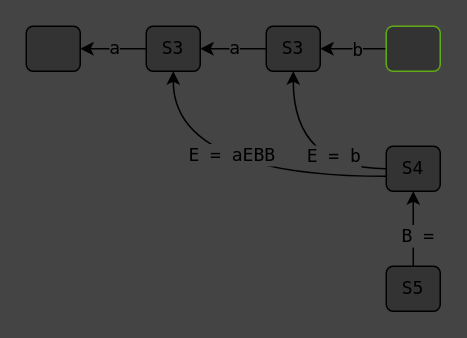
Some shapes in this 467 by 338 pixel diagram are drawn without their labels. The centre of each missing label's shape, as x and y in pixels:
"S0" goes at point 52,48.
"S2" goes at point 412,48.
